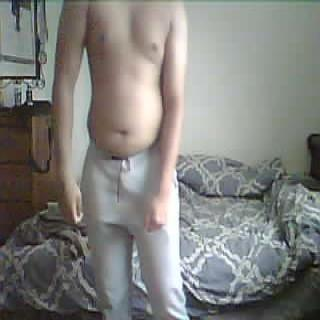White Sweatpants: (78, 141, 190, 320)
